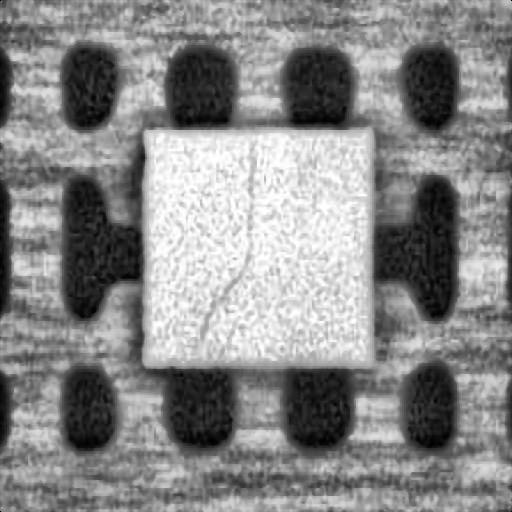DIE_CRACK: (197, 136, 255, 348)
